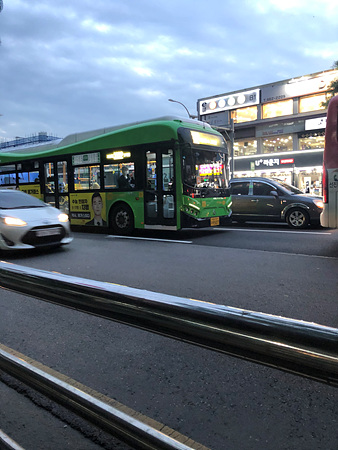entrance: (142, 144, 178, 224)
